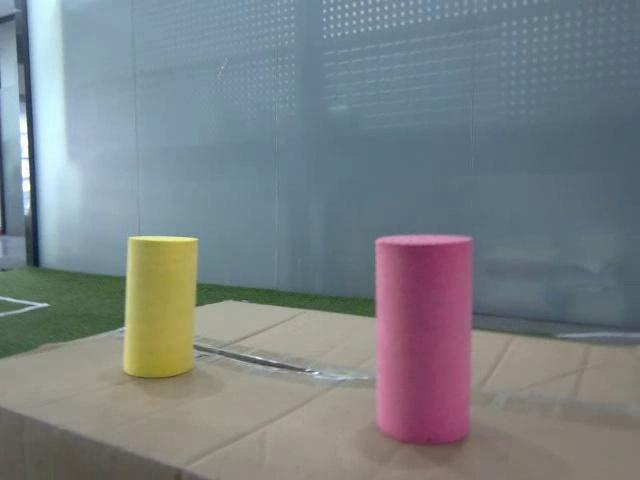red_cylinder: (374, 233, 472, 445)
yellow_cylinder: (124, 235, 198, 378)
